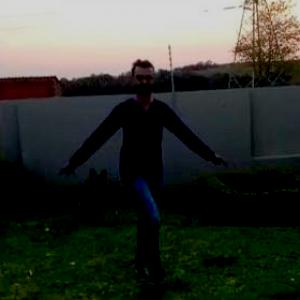land: (82, 68, 202, 242)
